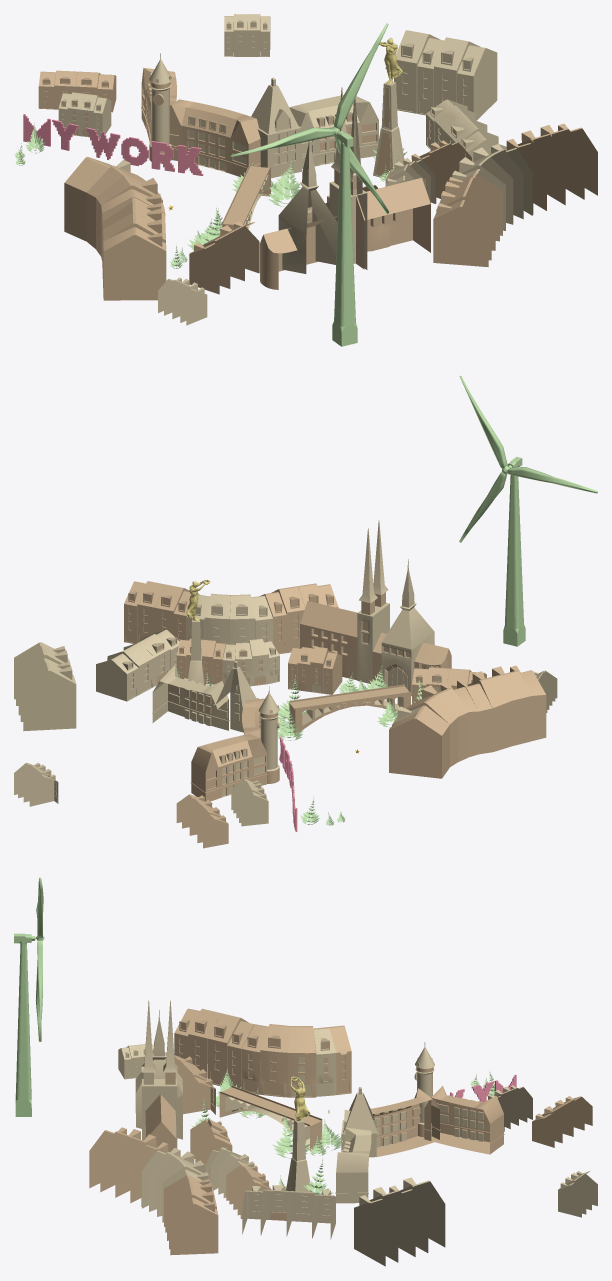
Rendered from country-luxembourg.glb.
3 renders of one model, top to bottom at view 1: azimuth 30°, elevation 25°; view 2: azimuth 150°, elevation 25°; view 3: azimuth 270°, elevation 25°, orthographic. The views are drawn at different scales.
Visible parts, largest first — view 1: buildingsLuxembourg, catedralBridgeBCE, windmill, myWorksText, windmill-helix, foliage, gelleFra; view 2: buildingsLuxembourg, catedralBridgeBCE, windmill, windmill-helix, foliage; view 3: buildingsLuxembourg, catedralBridgeBCE, windmill, foliage, windmill-helix.
Part boxes in pixels (bbox=[...]): buildingsLuxembourg: bbox=[38, 14, 597, 325]; catedralBridgeBCE: bbox=[141, 53, 430, 289]; windmill: bbox=[332, 131, 357, 346]; myWorksText: bbox=[23, 114, 203, 175]; windmill-helix: bbox=[230, 23, 388, 213]; foliage: bbox=[14, 123, 406, 268]; gelleFra: bbox=[379, 37, 402, 84]; buildingsLuxembourg: bbox=[14, 581, 557, 848]; catedralBridgeBCE: bbox=[152, 520, 451, 801]; windmill: bbox=[503, 456, 525, 646]; windmill-helix: bbox=[459, 376, 597, 542]; foliage: bbox=[174, 659, 424, 825]; buildingsLuxembourg: bbox=[89, 1008, 597, 1266]; catedralBridgeBCE: bbox=[135, 1000, 504, 1203]; windmill: bbox=[14, 933, 35, 1116]; foliage: bbox=[191, 1069, 494, 1194]; windmill-helix: bbox=[35, 877, 44, 1041].
Bounding box in the file's own units: 183 × 105 × 214.
